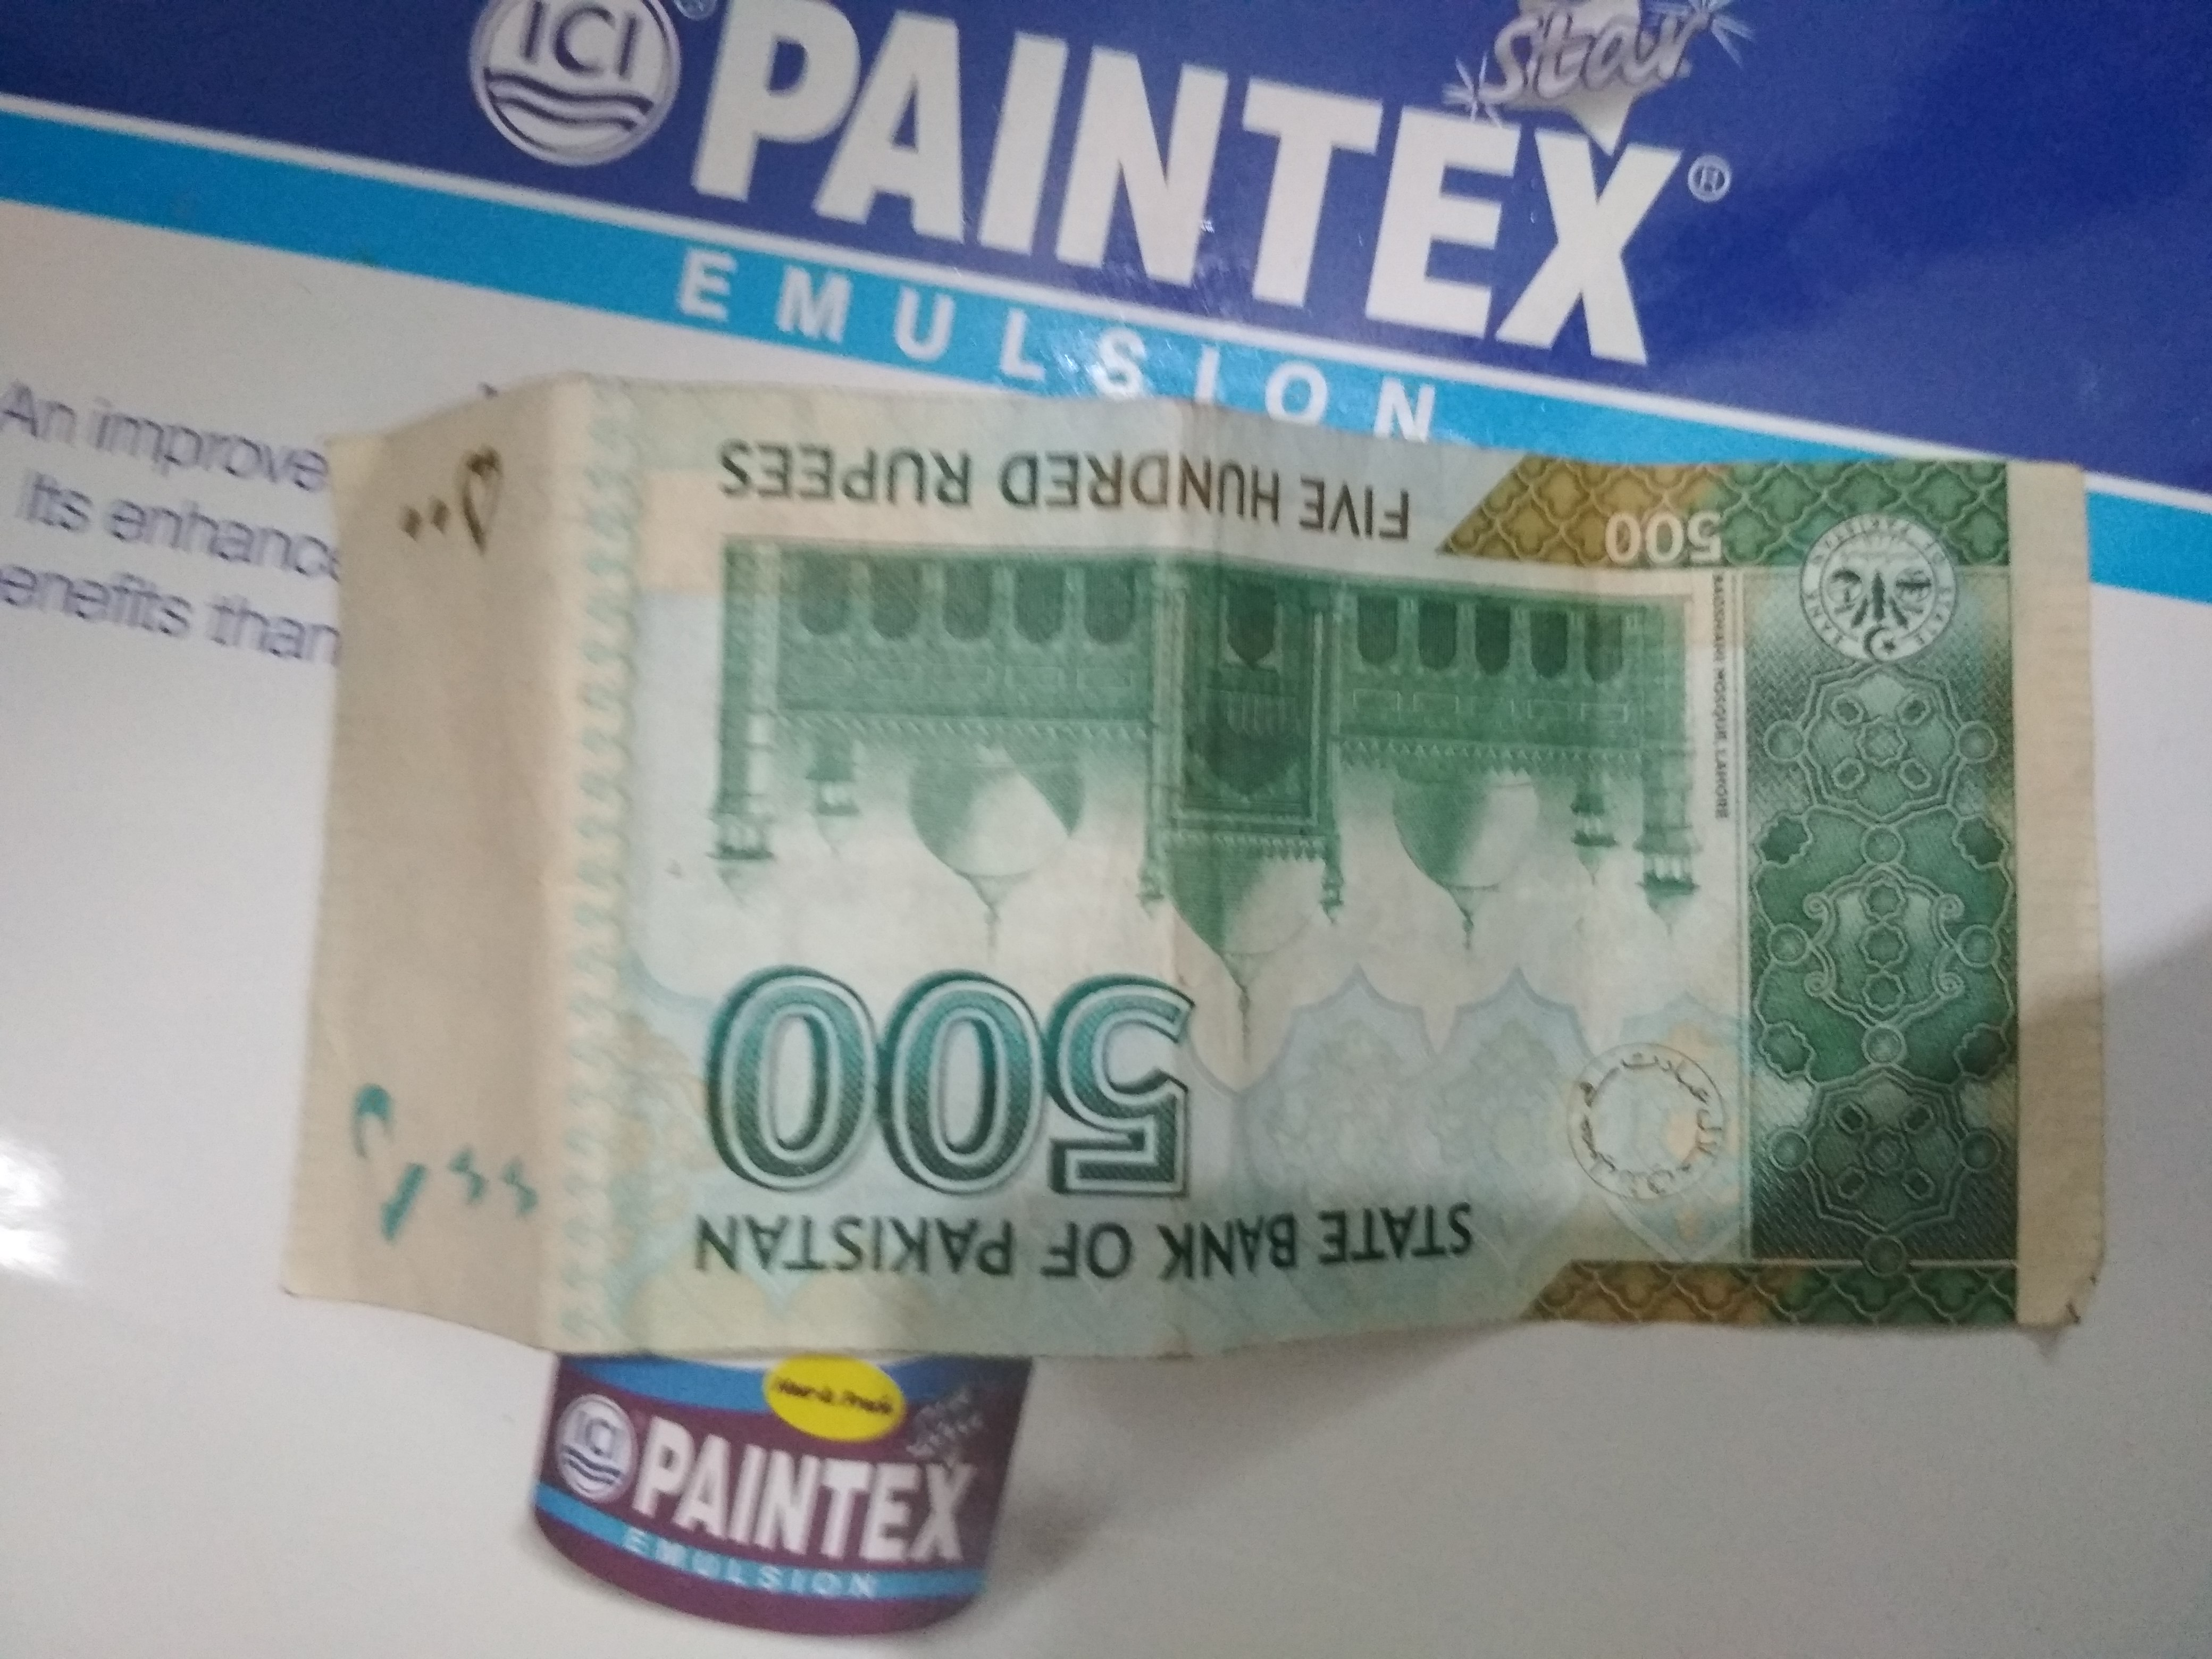500 rupee: (253, 385, 2212, 1439)
